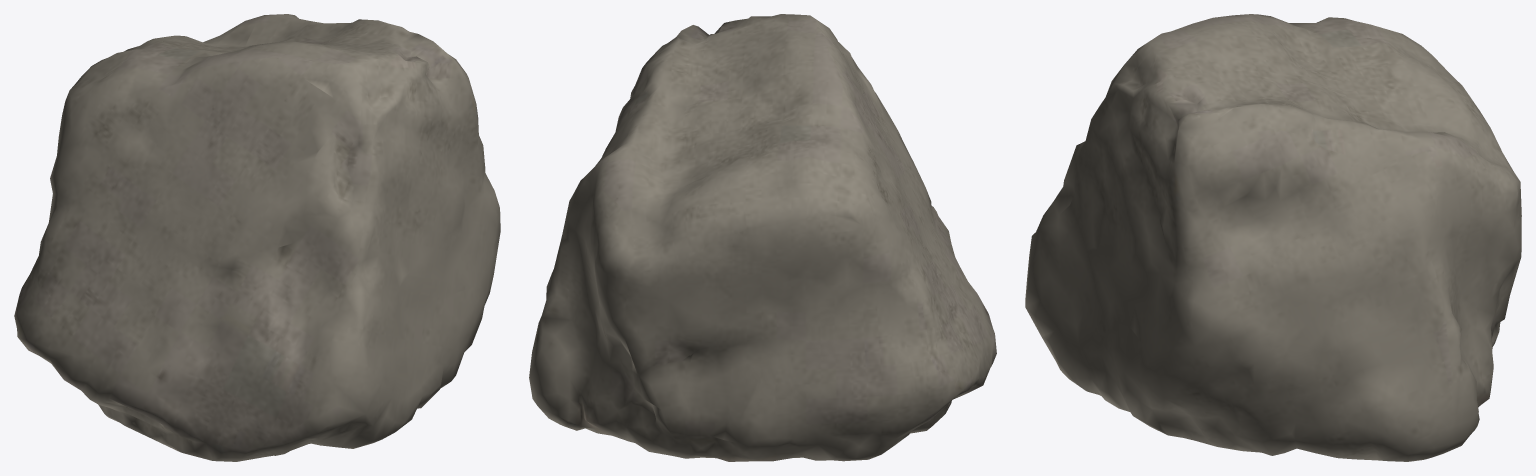
File: rock_1.glb
3 views of the same model, side by side, from view 1: azimuth 30°, elevation 25°; view 2: azimuth 150°, elevation 25°; view 3: azimuth 270°, elevation 25° (orthographic). The views are drawn at different scales.
Parts seen in each view (by area): view 1: SCENERY_rock_1; view 2: SCENERY_rock_1; view 3: SCENERY_rock_1.
Part boxes in pixels (<box>): SCENERY_rock_1: <box>14,14,500,461</box>; SCENERY_rock_1: <box>529,14,996,461</box>; SCENERY_rock_1: <box>1025,14,1521,461</box>.
Size of the model in its own units: 0.8828 by 0.7232 by 0.9.
1 material, 1 textured.
